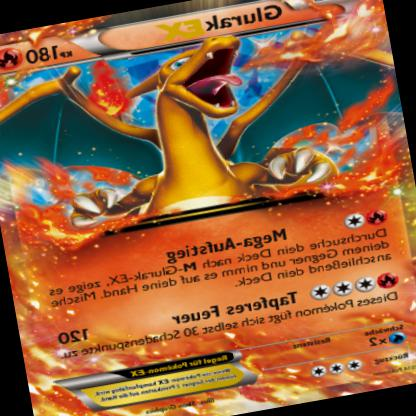Charizard: (1, 10, 413, 250)
